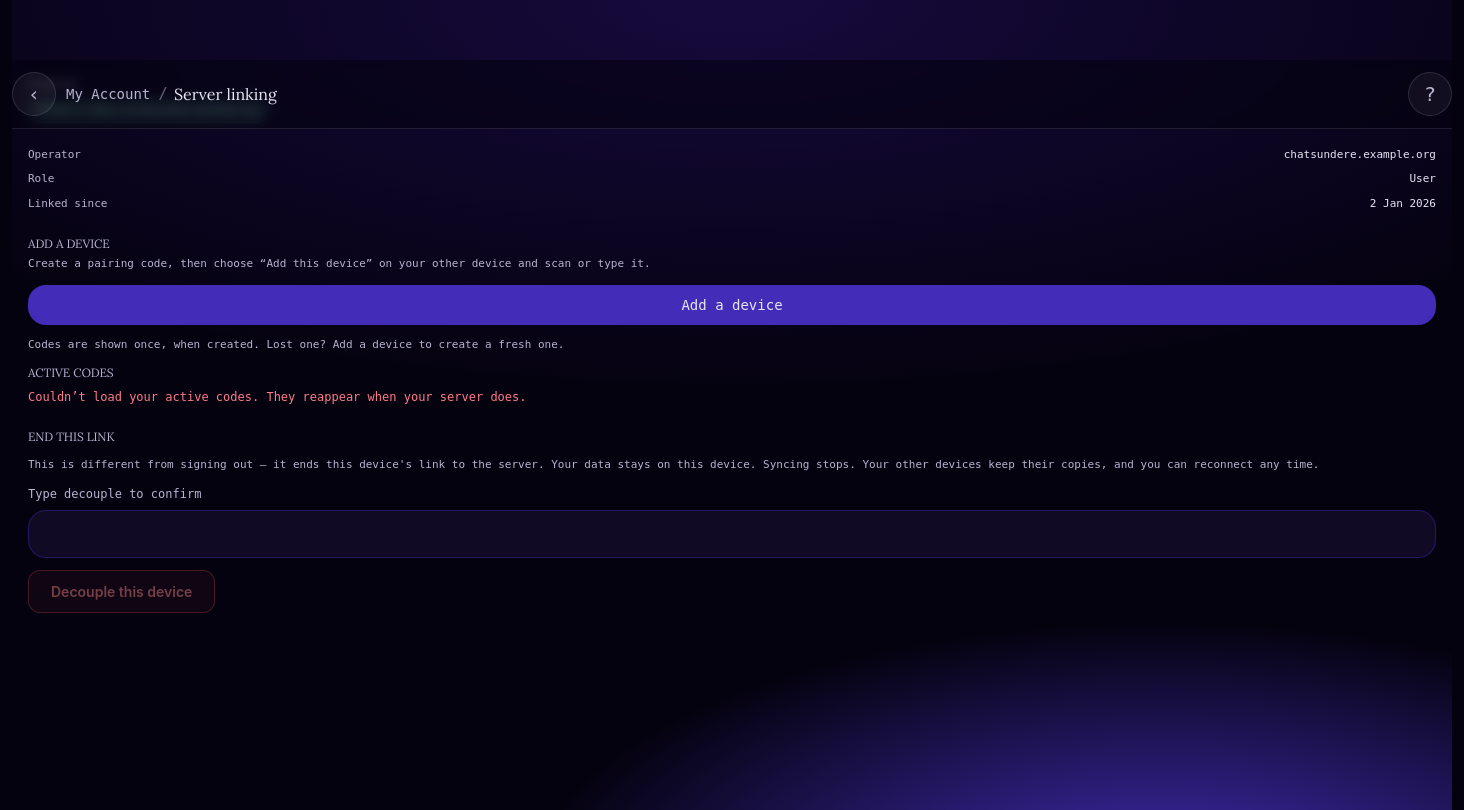
ServerLinkingPage — decouple this device › shows a constructive retry note when the server session could not be revoked
Type "decouple" into the field labelled "Type decouple to confirm" at [732, 534], box x1=28 y1=510 x2=1436 y2=558
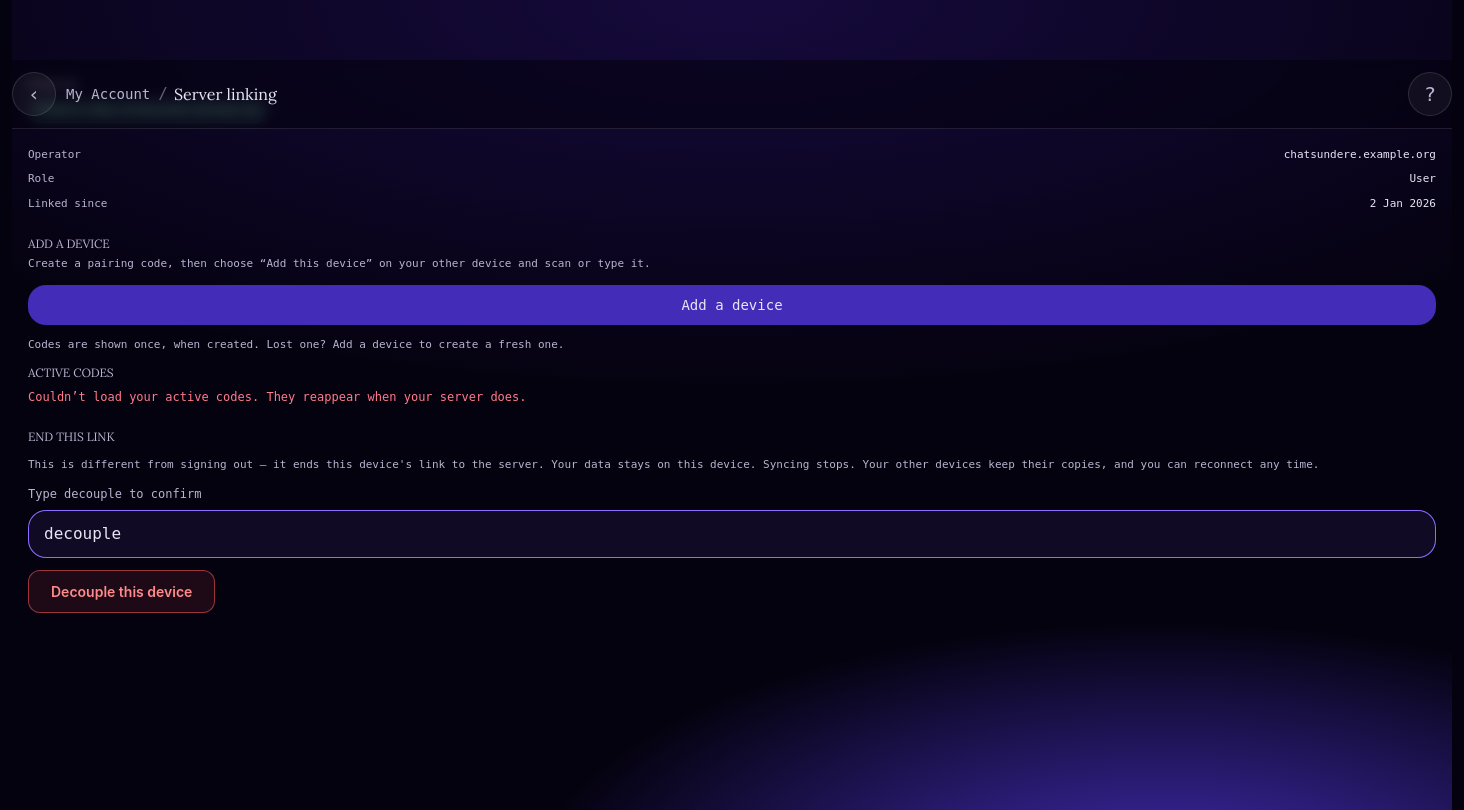
Click the button "Decouple this device" at [122, 591], box x1=28 y1=570 x2=215 y2=612
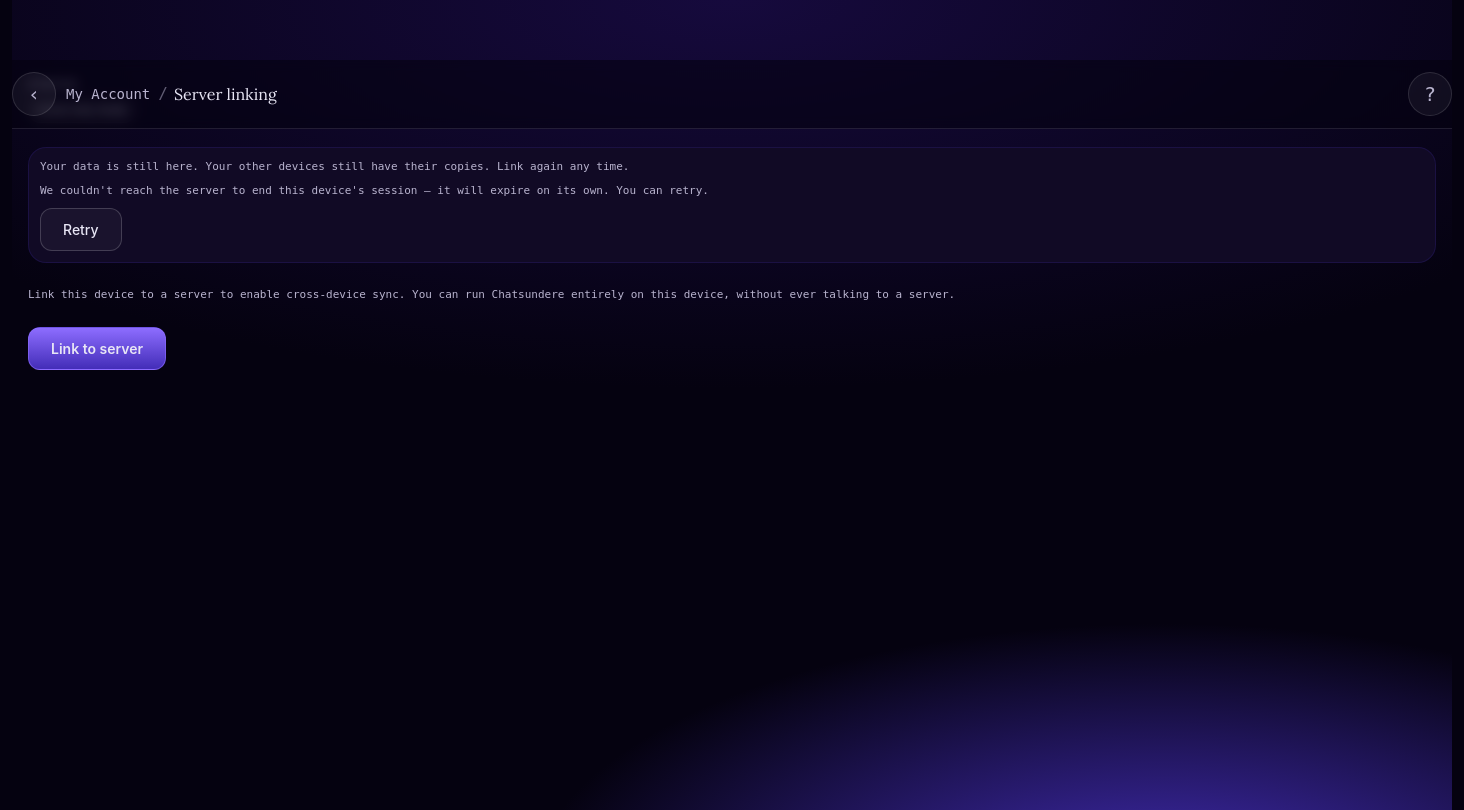
Result: the text "couldn.t reach the server" is shown at x1=40 y1=184 x2=709 y2=197
Result: the button "Retry" is shown at x1=40 y1=208 x2=122 y2=250
